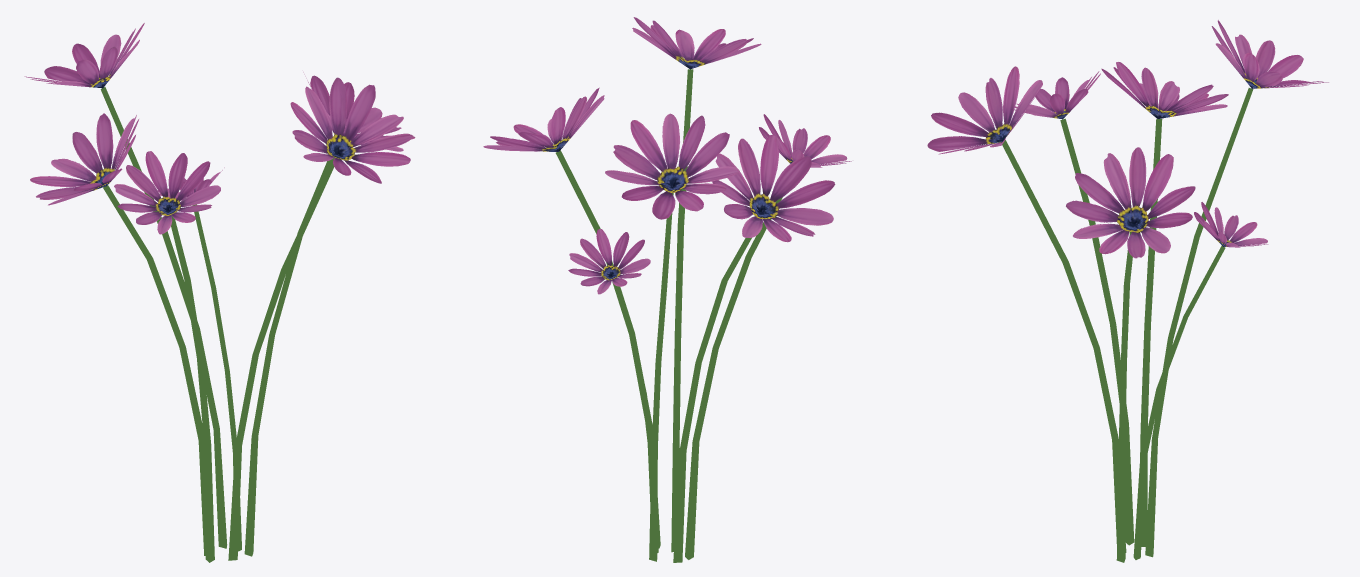
Rendered from SM_Flower_06_02.fbx.
3 views of the same model, side by side, from view 1: azimuth 30°, elevation 25°; view 2: azimuth 150°, elevation 25°; view 3: azimuth 270°, elevation 25° (orthographic). The views are drawn at different scales.
Visible parts, largest first — view 1: SM_Flower_06_02_LOD0; view 2: SM_Flower_06_02_LOD0; view 3: SM_Flower_06_02_LOD0.
Boxes of the visible parts, x1,y1,x2,y2 form: SM_Flower_06_02_LOD0: [24, 23, 415, 562]; SM_Flower_06_02_LOD0: [483, 17, 851, 562]; SM_Flower_06_02_LOD0: [927, 20, 1328, 562].
Size of what is drawn, in the model's own units: 52.26 by 64.75 by 51.21.
